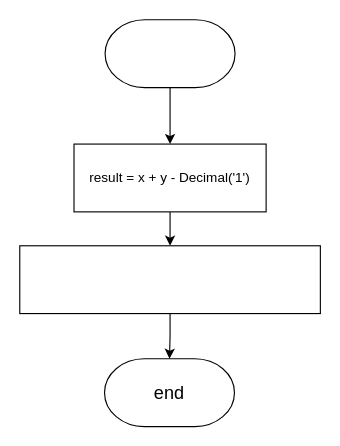
Some shapes in this 340 by 446 pixel diagram are drawn without their labels. The shapes that lost their labels are listed below. From the top down, each one's centre as x and y in pixels, then its label:
pixel 169 53: begin
pixel 169 279: return max(Decimal('0'), min(Decimal('1'), result))
